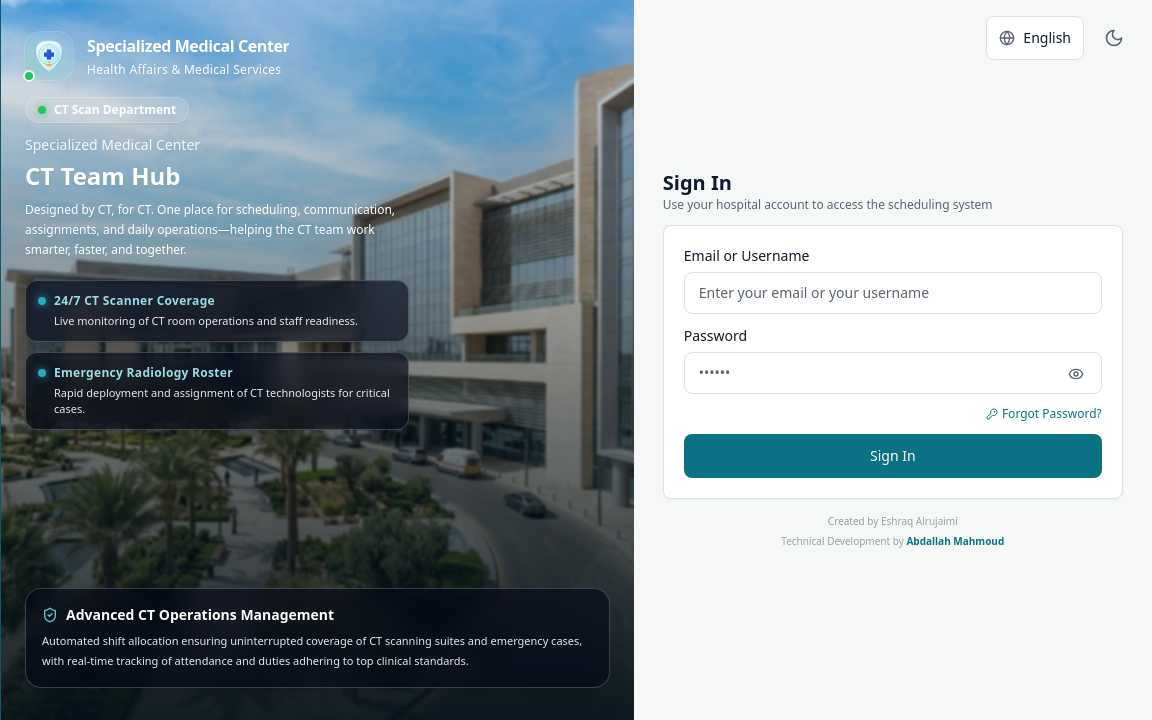
Test: LoginPage › shows the verification-required message for unverified accounts
Type "new.employee@hospital.sa" into the field labelled "Email or Username" at (893, 293), box [684,272,1102,314]
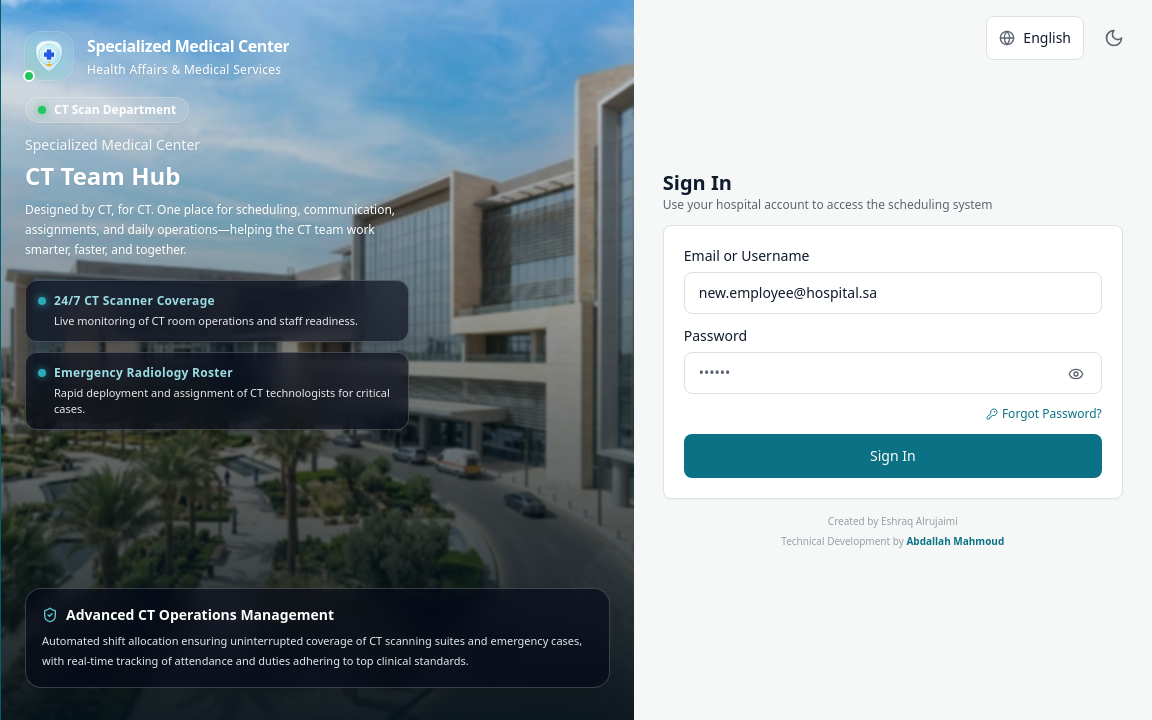
Type "setup-pass-123" into the password field labelled "Password" at (893, 373), box [684,352,1102,394]
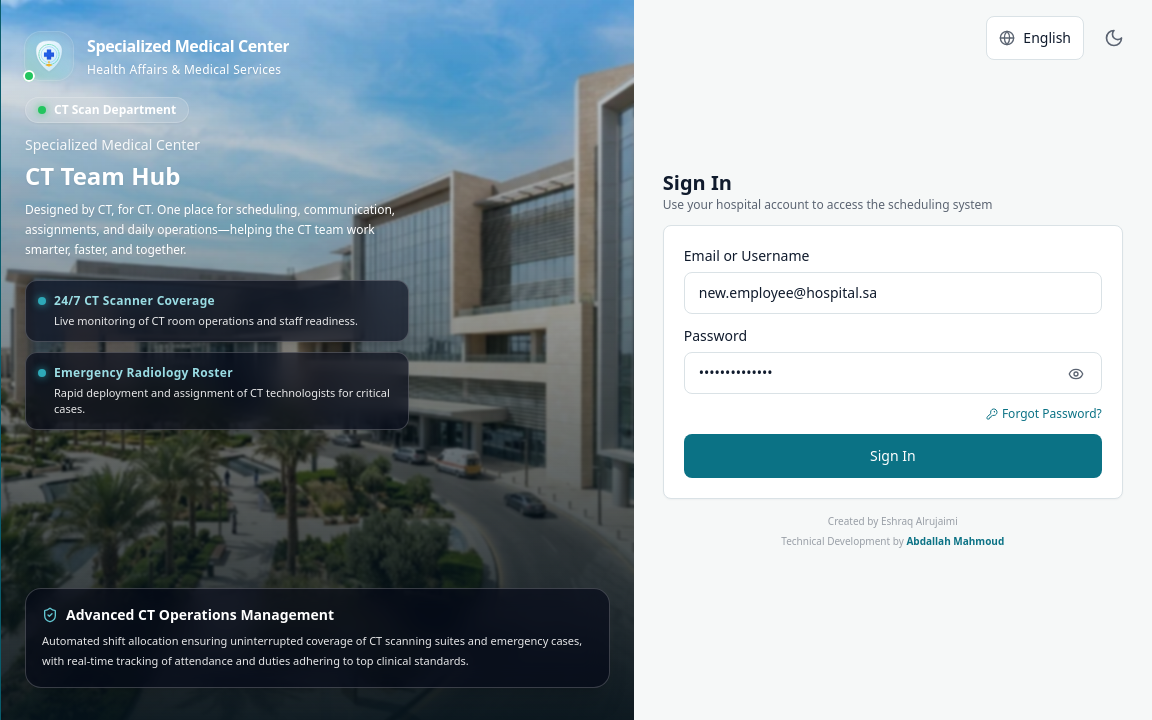
Click the button "Sign In" at (893, 456), box [684,434,1102,478]
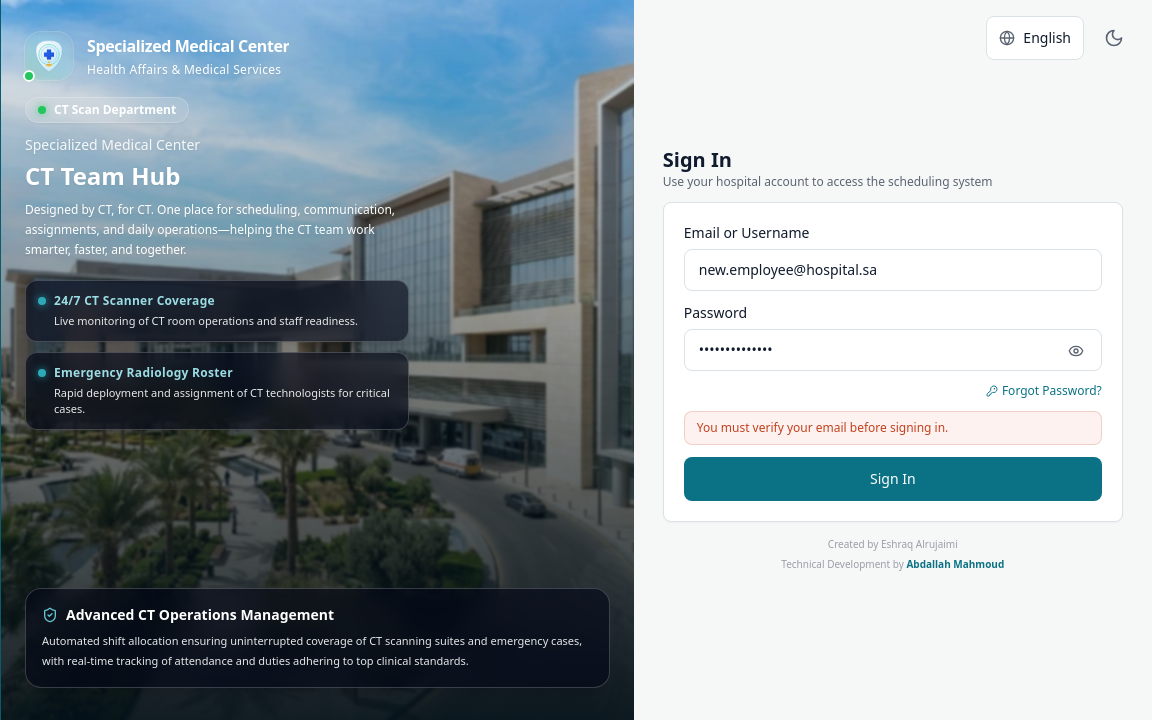
expect the button "You must verify your email before signing in." is shown: met, box [684,411,1102,445]
